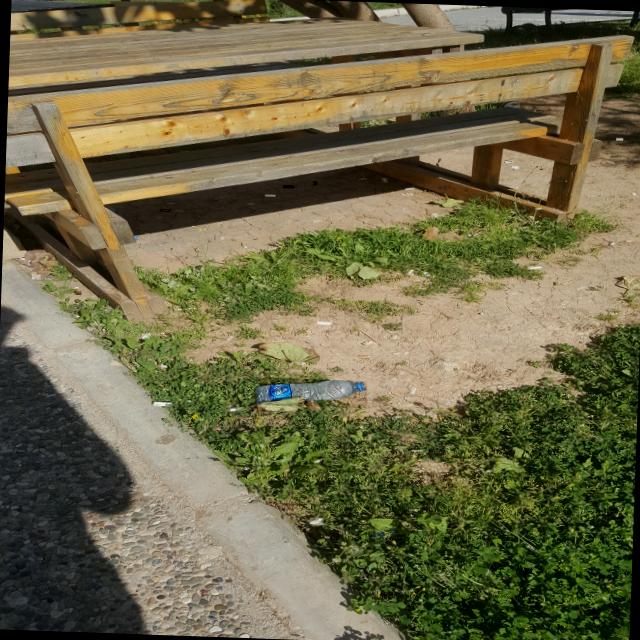Cigarette: (311, 456, 323, 464), (310, 517, 323, 524), (152, 402, 171, 405), (229, 407, 241, 411), (317, 321, 332, 324), (356, 355, 371, 358), (527, 266, 541, 269), (407, 270, 414, 275), (142, 333, 149, 338), (404, 187, 415, 190), (32, 275, 40, 279), (608, 242, 615, 246), (74, 291, 81, 295), (382, 178, 388, 182), (283, 186, 294, 188), (606, 161, 616, 163), (160, 209, 170, 211), (27, 260, 31, 265), (504, 160, 512, 162), (313, 181, 317, 185), (616, 138, 623, 140), (513, 167, 518, 169), (265, 195, 275, 196)
Clear plastic bottle: (256, 380, 367, 404)
Unlabeled litter: (465, 235, 472, 237)
